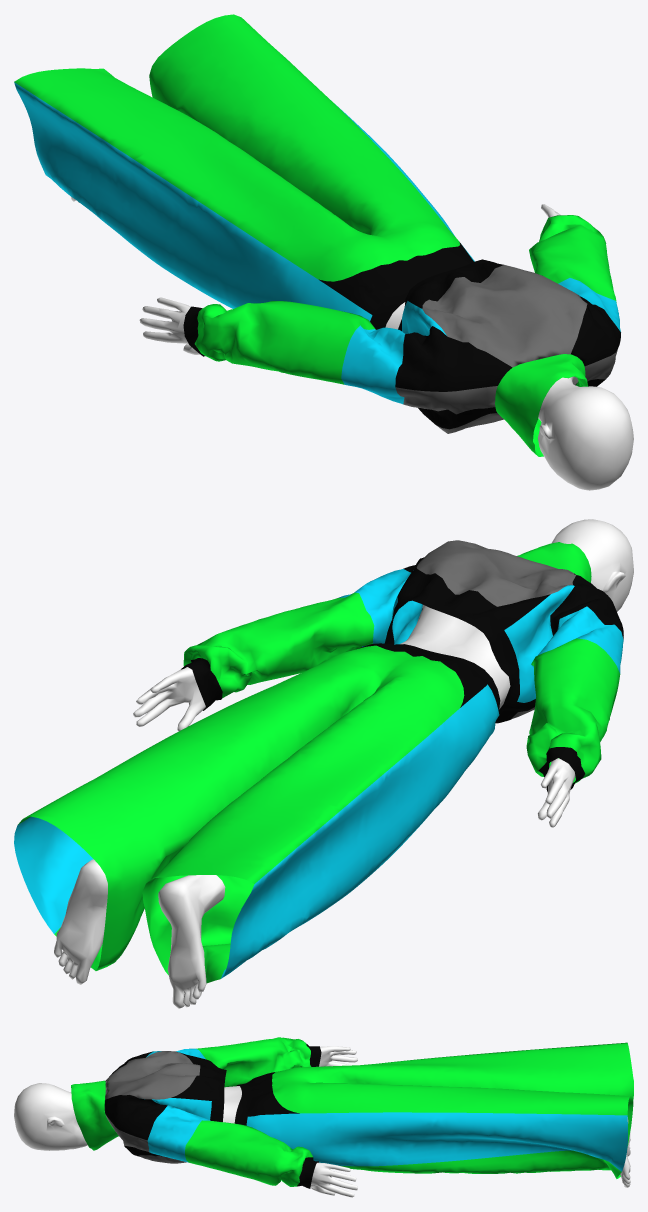
The model's file is MannequinDress2.fbx.
The picture shows the model from 3 angles, top to bottom: view 1: azimuth 30°, elevation 25°; view 2: azimuth 150°, elevation 25°; view 3: azimuth 270°, elevation 25°; orthographic projection. The views are drawn at different scales.
Visible parts, largest first — view 1: MODEL2_DENIM_EXP1.001, body.002; view 2: MODEL2_DENIM_EXP1.001, body.002; view 3: MODEL2_DENIM_EXP1.001, body.002.
Part boxes in pixels (x1,y1,x2,y2): MODEL2_DENIM_EXP1.001: [14, 14, 620, 456]; body.002: [71, 197, 633, 490]; MODEL2_DENIM_EXP1.001: [14, 540, 623, 983]; body.002: [54, 519, 633, 1008]; MODEL2_DENIM_EXP1.001: [71, 1037, 633, 1188]; body.002: [14, 1046, 630, 1197].
Bounding box in the file's own units: 8.77 × 3.37 × 17.71.
